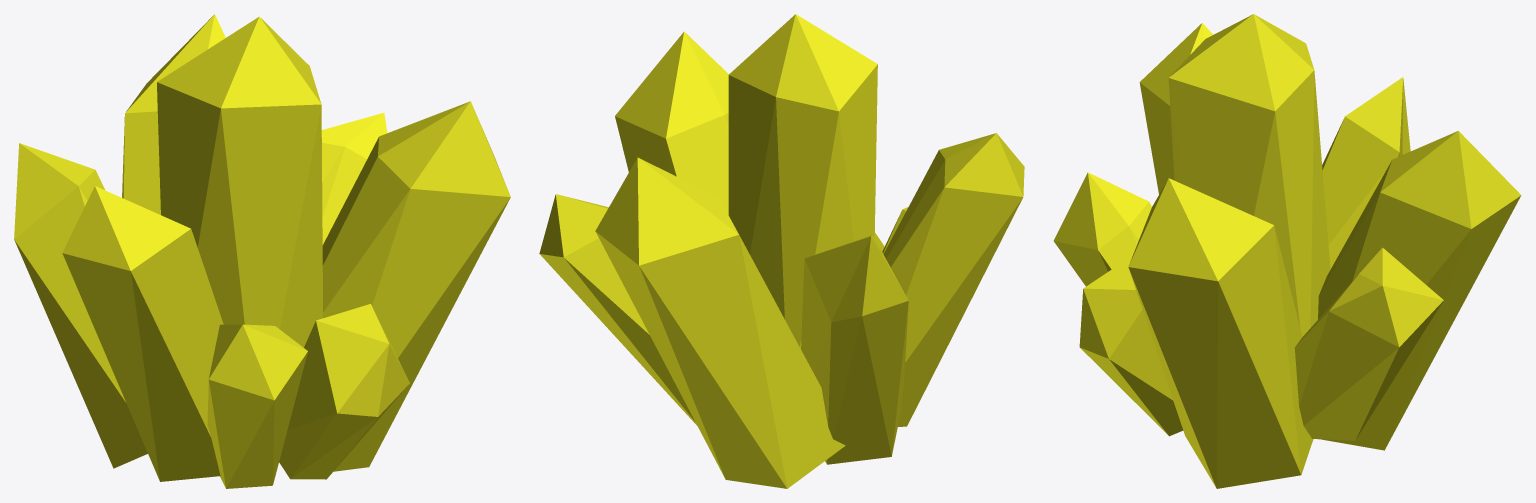
The model's file is yellow_crystal_block.obj.
The picture shows the model from 3 angles, left to right: view 1: azimuth 30°, elevation 25°; view 2: azimuth 150°, elevation 25°; view 3: azimuth 270°, elevation 25°; orthographic projection. The views are drawn at different scales.
Parts seen in each view (by area): view 1: Icosphere.036_Icosphere.037; view 2: Icosphere.036_Icosphere.037; view 3: Icosphere.036_Icosphere.037.
Boxes of the visible parts, x1,y1,x2,y2 form: Icosphere.036_Icosphere.037: [14, 14, 510, 488]; Icosphere.036_Icosphere.037: [539, 14, 1024, 488]; Icosphere.036_Icosphere.037: [1053, 14, 1521, 488].
Bounding box in the file's own units: 1.01 × 1.01 × 0.9894.
